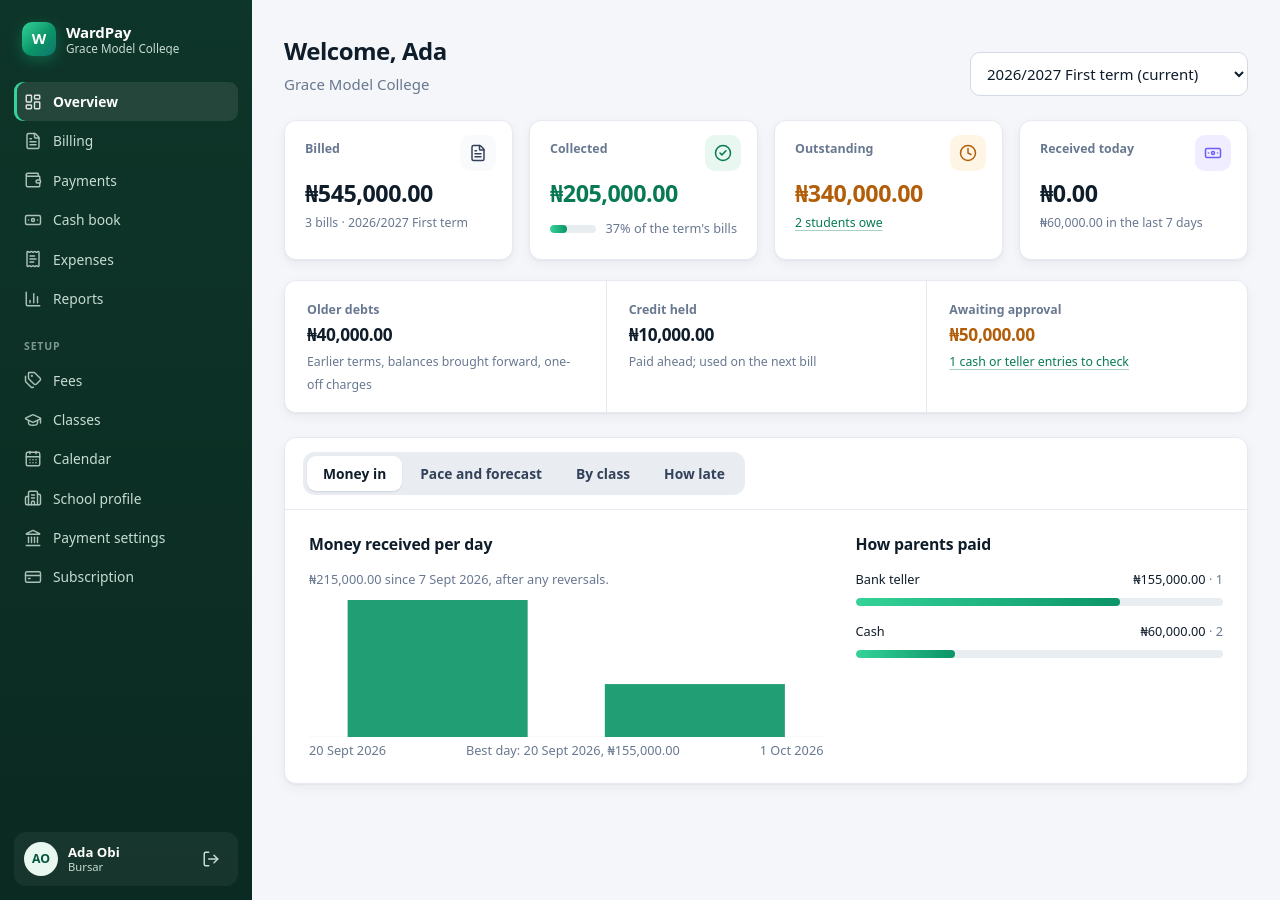
Test: dashboard and reports › compares the collection curve with last term and forecasts what falls due
Click the tab "Pace and forecast": (481, 473) [404, 456, 558, 491]
(page scrolled)
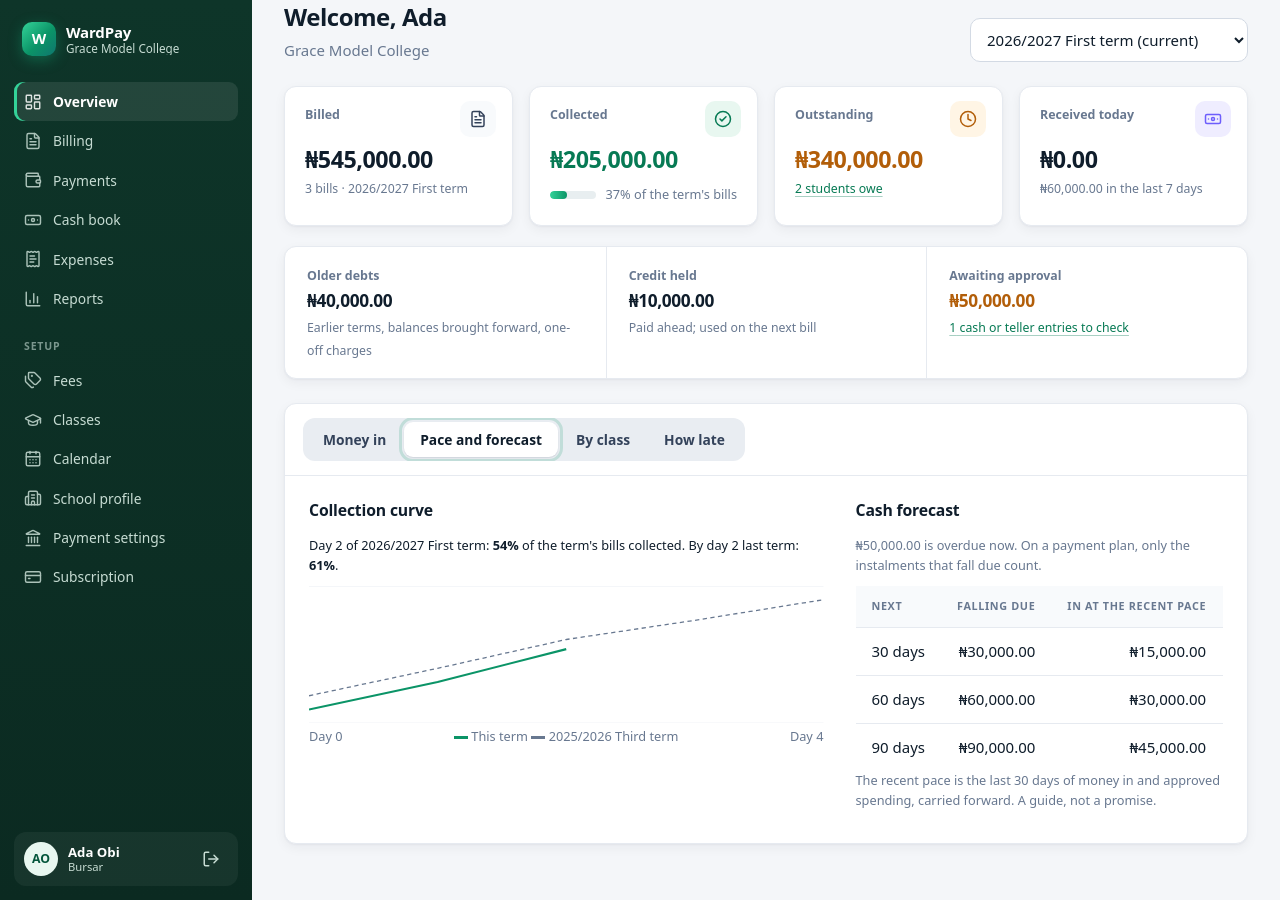
Expected: the text "54%" is shown, [493, 536, 519, 554]
Expected: the text "61%" is shown, [309, 556, 335, 574]
Expected: the picture named "Share of bills collected by day of term" is shown, [309, 586, 824, 723]
